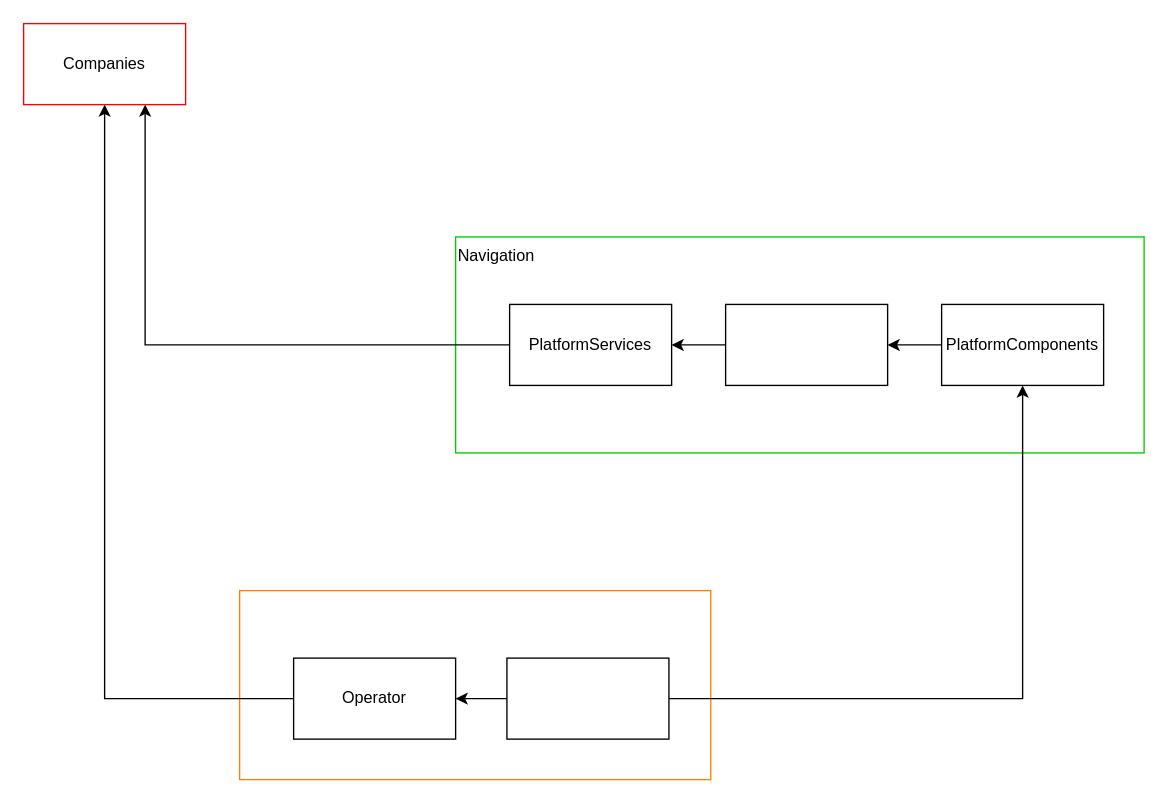
The diagram is 1168 pixels wide and 803 high, and some of its shapes have lost their labels. The box of each missing label's shape, as (x1, y1, x2, y2) in pixels:
AccessGroups: (506, 657, 669, 739)
PlatformModules: (724, 303, 888, 385)
Users and Groups: (238, 589, 711, 780)
